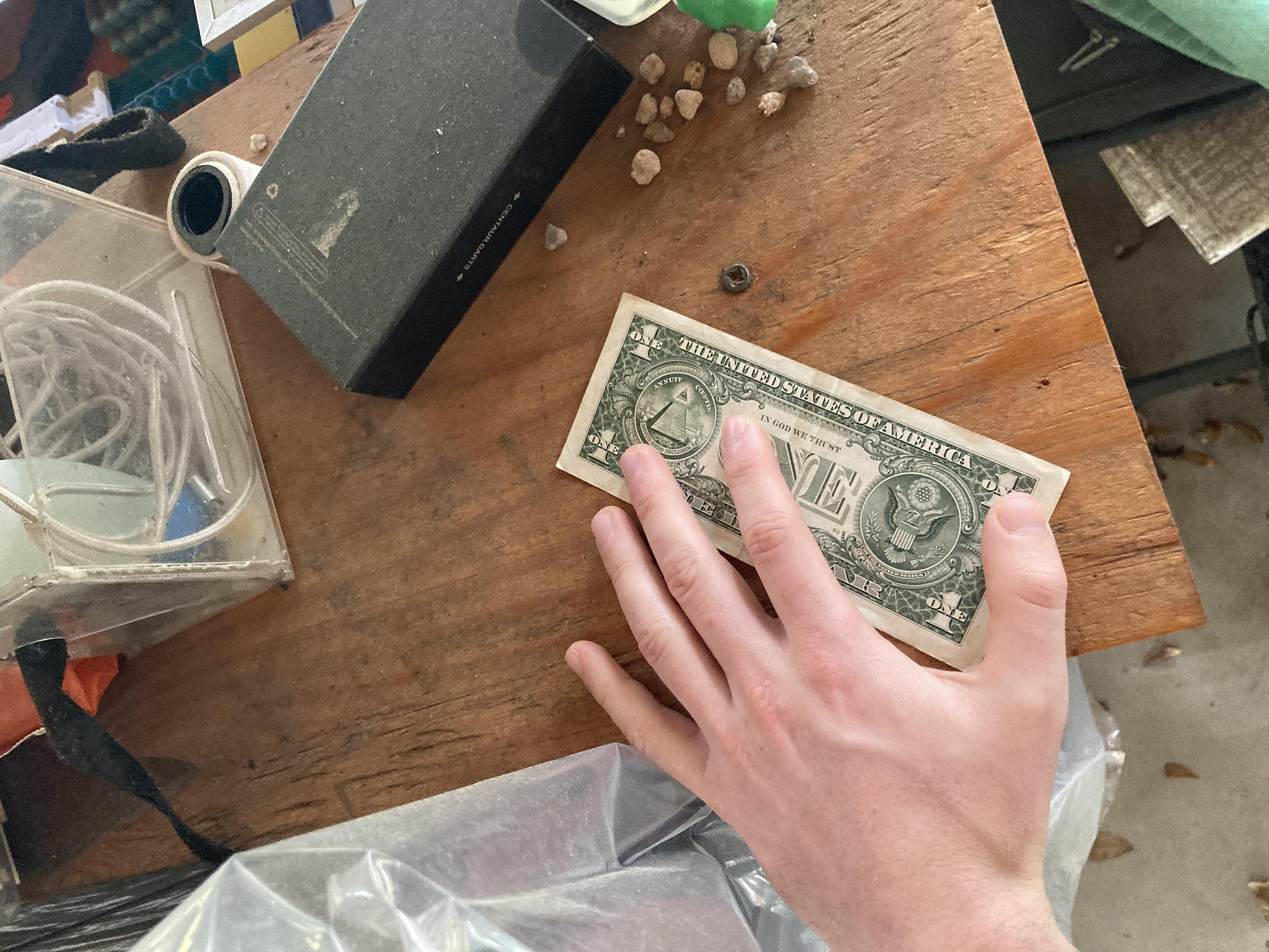one-back: (361, 416, 880, 803)
